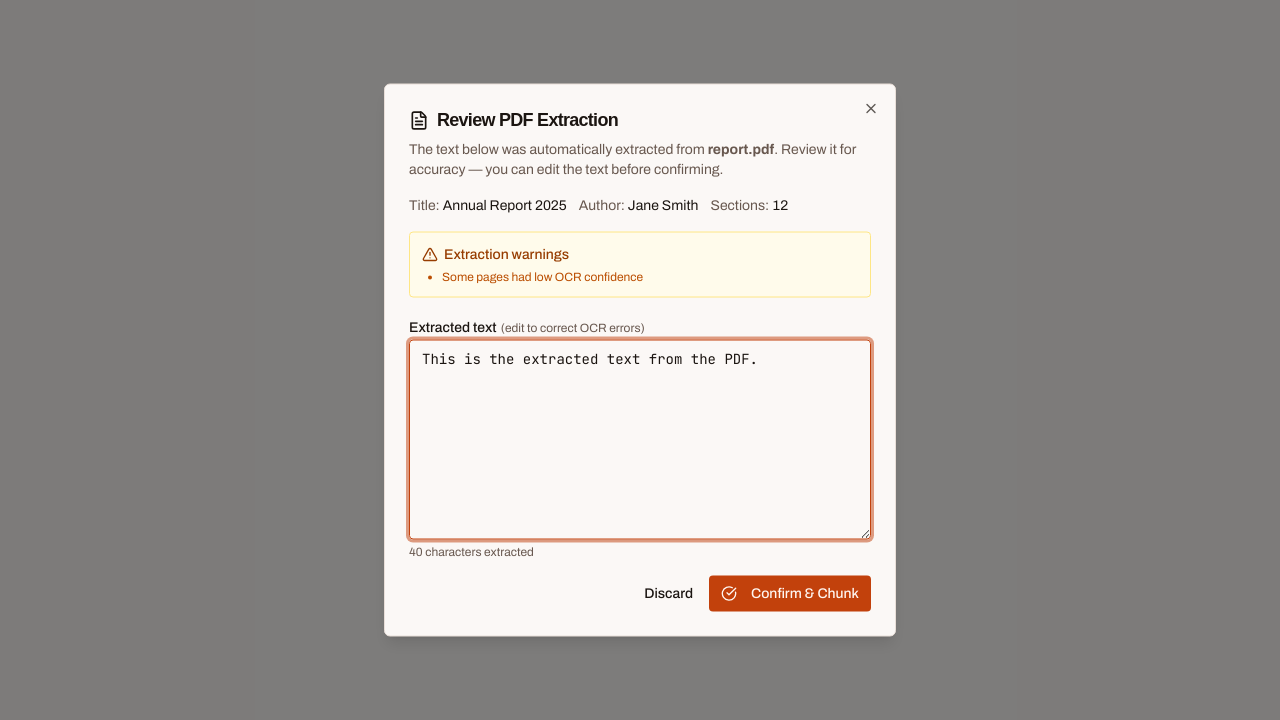
Test: PdfPreviewModal › shows fallback error message when non-ok response has no parseable body
Click the button "Confirm & Chunk" at coordinates (790, 594), box 709,576 -> 871,612
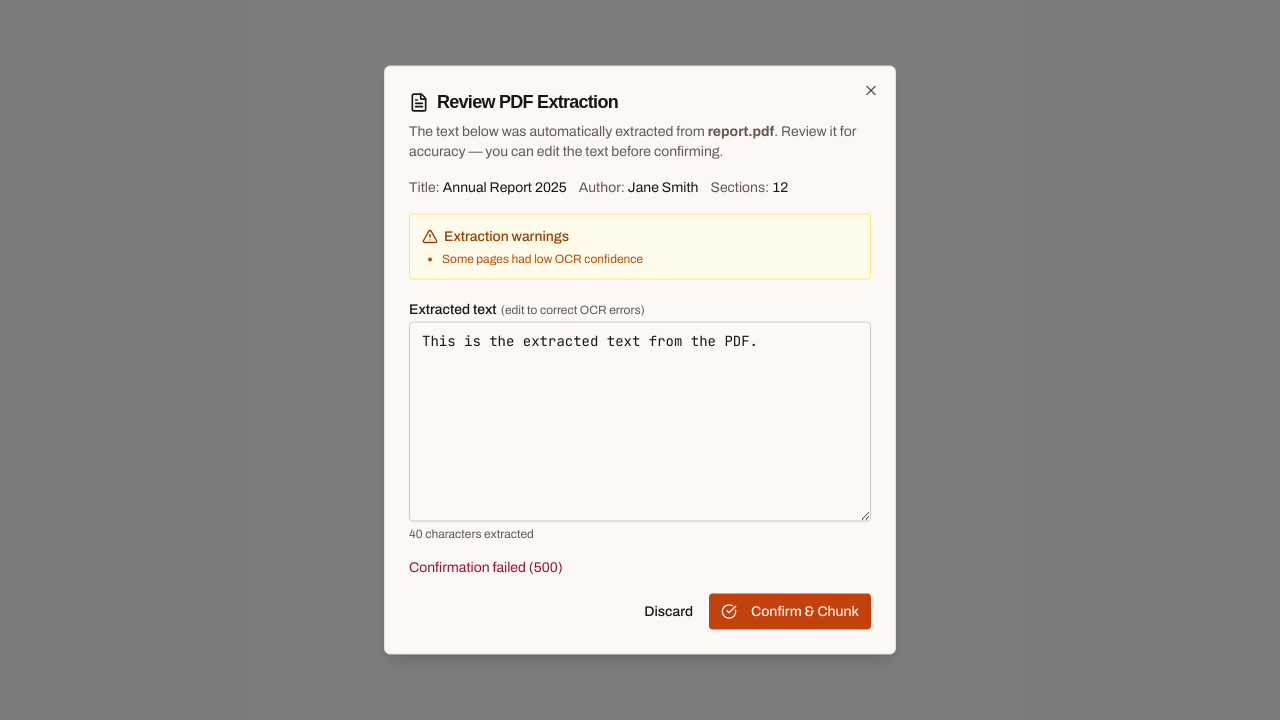
Check: the text "Confirmation failed (500)" is shown, box 409,560 -> 563,574
